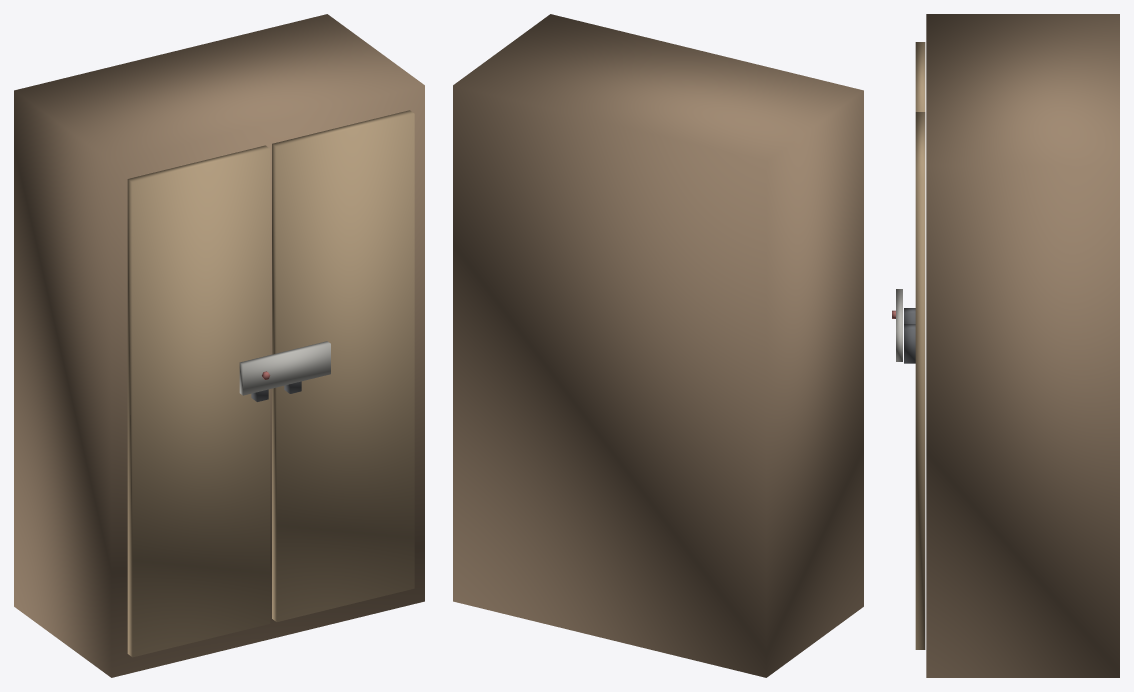
The model's file is mechanical_control_cabinet__compact.glb.
The picture shows the model from 3 angles, left to right: view 1: azimuth 30°, elevation 25°; view 2: azimuth 150°, elevation 25°; view 3: azimuth 270°, elevation 25°; orthographic projection.
Parts seen in each view (by area): view 1: world; view 2: world; view 3: world.
Boxes of the visible parts, x1,y1,x2,y2 form: world: (14,14,424,677); world: (453,14,863,677); world: (892,14,1119,677).
Size of the model in its own units: 0.798 by 1.26 by 0.5061.
